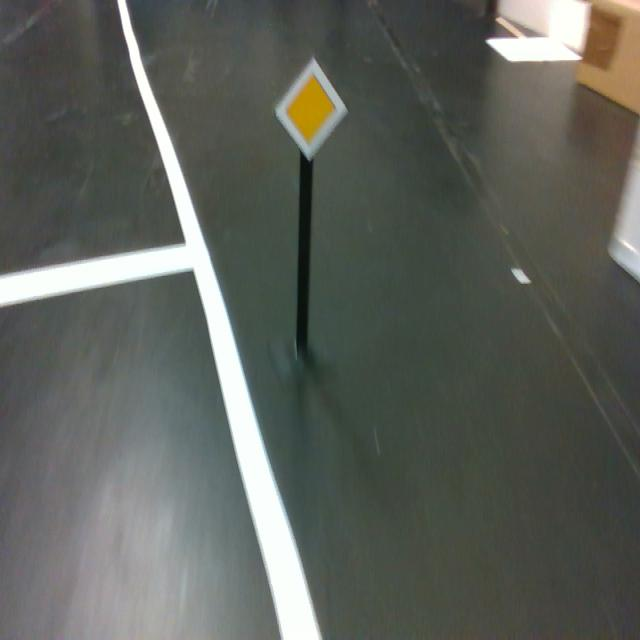priority-sign: (274, 54, 349, 163)
